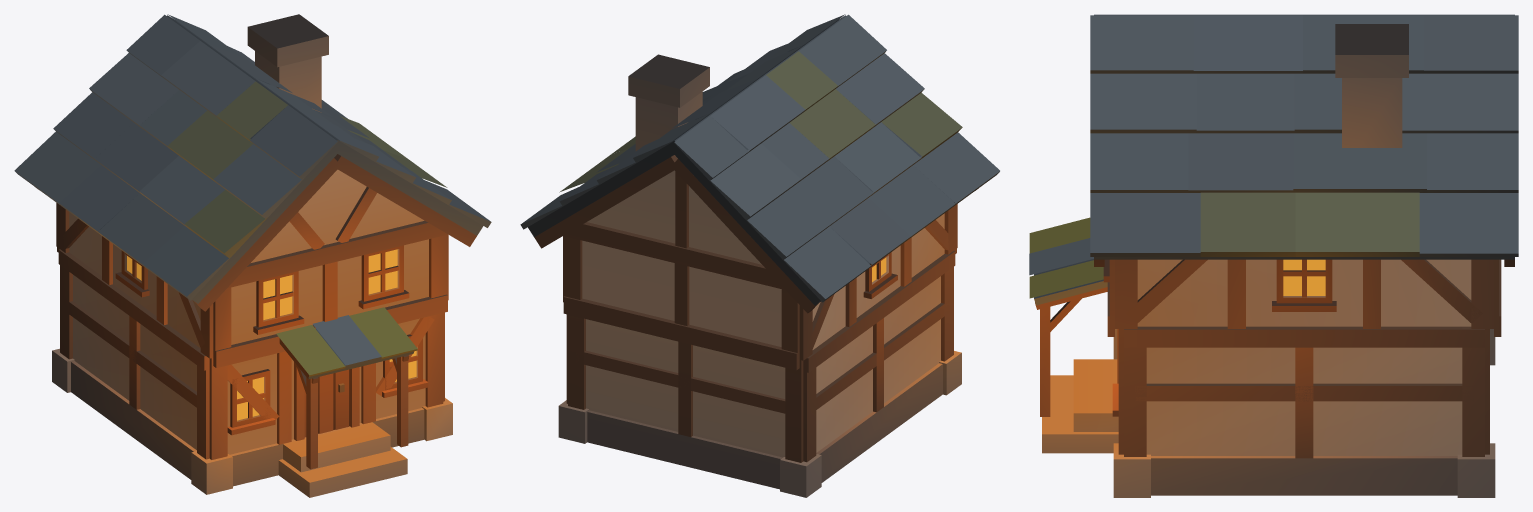
Rendered from inn.glb.
The picture shows the model from 3 angles, left to right: view 1: azimuth 30°, elevation 25°; view 2: azimuth 150°, elevation 25°; view 3: azimuth 270°, elevation 25°; orthographic projection. The views are drawn at different scales.
Parts seen in each view (by area): view 1: lit, glow; view 2: lit; view 3: lit, glow.
Boxes of the visible parts, bbox=[...] form: lit: bbox=[14, 14, 491, 497]; glow: bbox=[127, 249, 416, 420]; lit: bbox=[520, 14, 999, 497]; lit: bbox=[1029, 14, 1518, 497]; glow: bbox=[1283, 259, 1325, 295].
Size of the model in its own units: 5.81 by 6.2 by 6.51.
